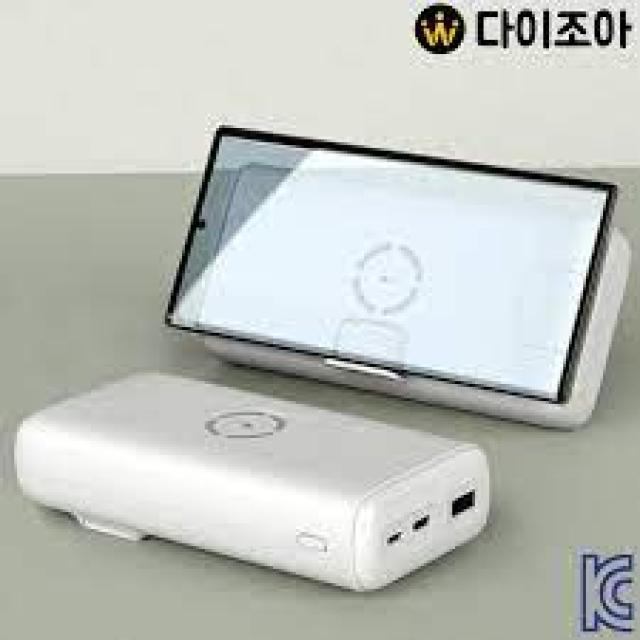portable-charger: (2, 368, 497, 599)
